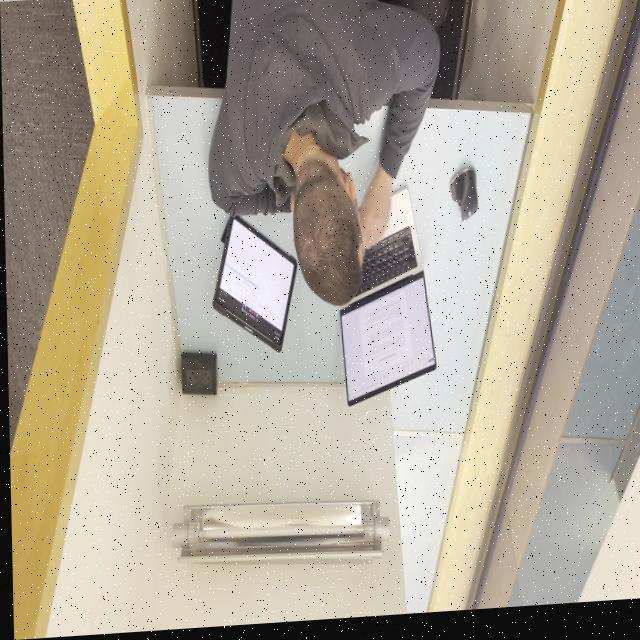bag: (209, 214, 298, 362)
ipad: (204, 0, 445, 318)
laptop: (333, 190, 435, 413)
mouse: (447, 173, 480, 228)
